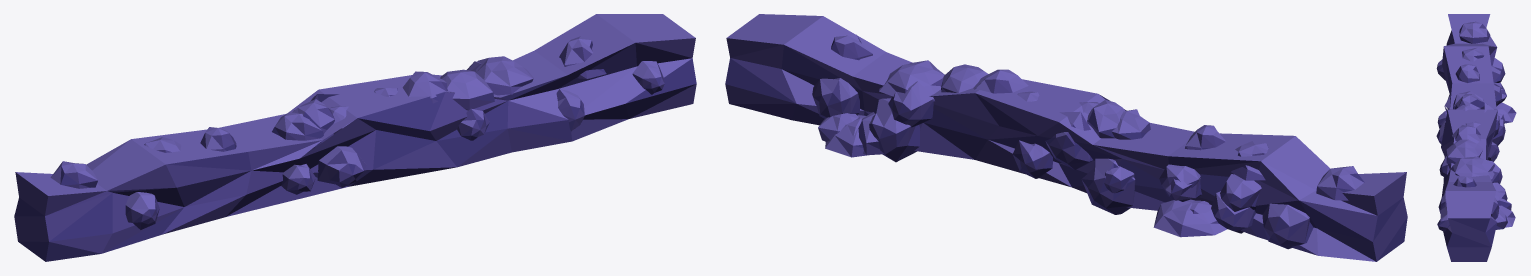
The model's file is Mine_Perimeter_Front_A.obj.
The picture shows the model from 3 angles, left to right: view 1: azimuth 30°, elevation 25°; view 2: azimuth 150°, elevation 25°; view 3: azimuth 270°, elevation 25°; orthographic projection. The views are drawn at different scales.
Visible parts, largest first — view 1: Mine_Perimeter_Front_A; view 2: Mine_Perimeter_Front_A; view 3: Mine_Perimeter_Front_A.
Boxes of the visible parts, left/top/right/bottom form: Mine_Perimeter_Front_A: left=14, top=14, right=696, bottom=261; Mine_Perimeter_Front_A: left=725, top=14, right=1407, bottom=261; Mine_Perimeter_Front_A: left=1436, top=14, right=1516, bottom=261.
Bounding box in the file's own units: 20 × 2.95 × 3.32.
